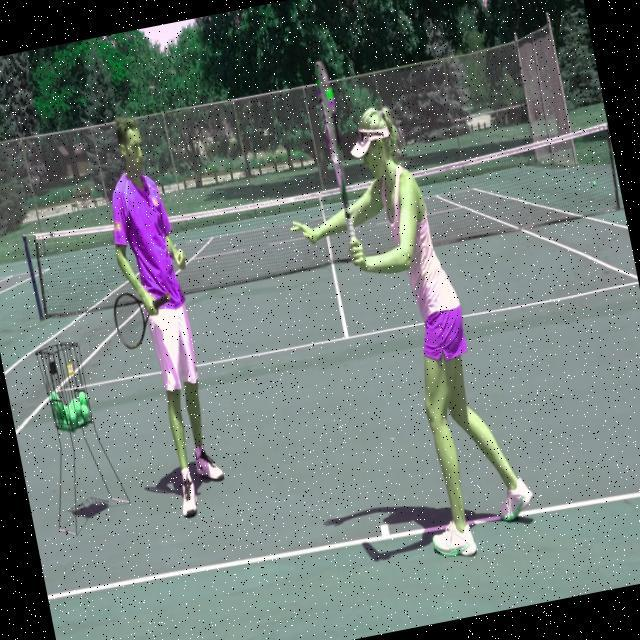court: (0, 179, 640, 640)
net: (9, 103, 627, 337)
player: (262, 35, 548, 578)
